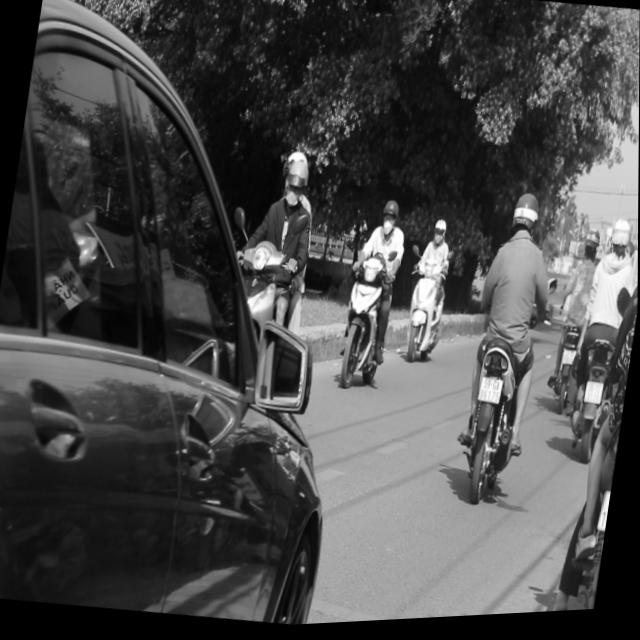helmet: (280, 159, 312, 214), (507, 194, 542, 244), (606, 223, 631, 262), (379, 200, 400, 239), (582, 231, 602, 264), (431, 221, 447, 248)
licenseplate: (540, 180, 639, 618), (444, 187, 565, 512), (560, 219, 639, 466), (332, 196, 410, 396), (399, 218, 458, 370)
nohelmet: (478, 379, 503, 409), (599, 494, 612, 534), (583, 385, 603, 410)
